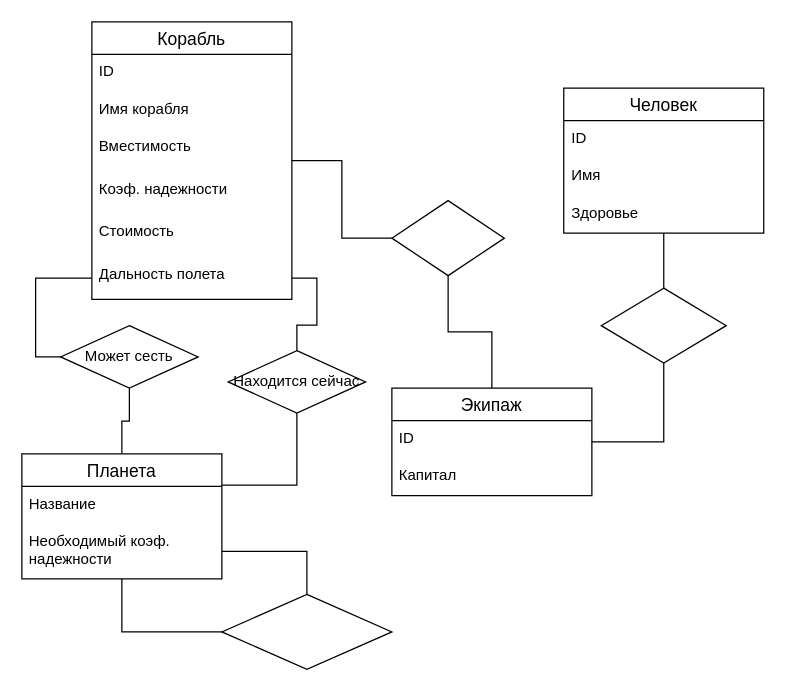
Some shapes in this 786 by 691 pixel diagram are drawn without their labels. Each missing label, with the centre of its shape:
Расстояния между друг другом: the point at 306,631
Является частью: the point at 447,237
Является членом: the point at 663,325
